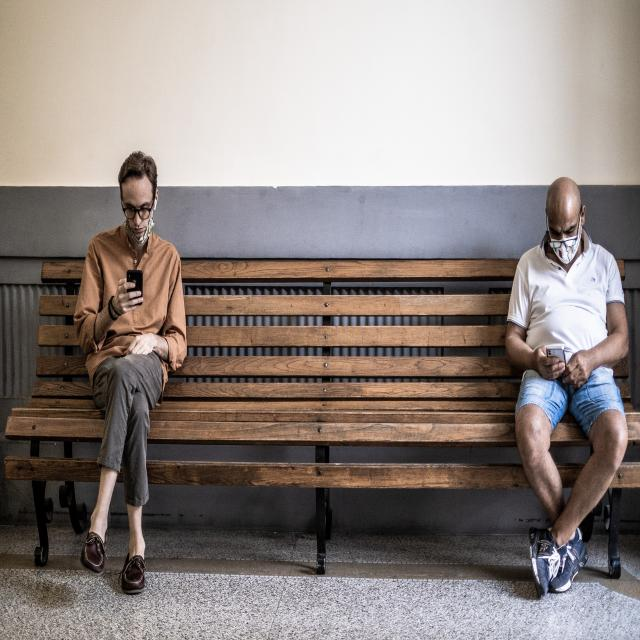nonfall: (70, 143, 198, 590), (496, 168, 620, 596)
